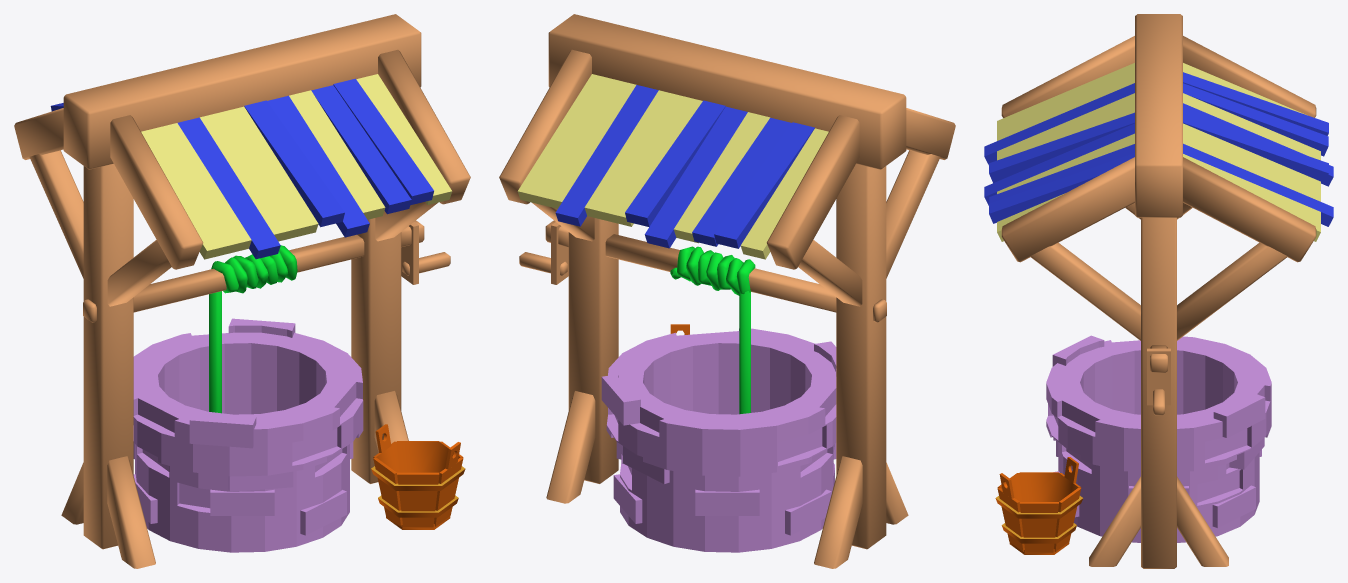
The model's file is brunn.fbx.
3 views of the same model, side by side, from view 1: azimuth 30°, elevation 25°; view 2: azimuth 150°, elevation 25°; view 3: azimuth 270°, elevation 25° (orthographic). The views are drawn at different scales.
Parts seen in each view (by area): view 1: column_low, well_low, roof2_low, roof1_low, well_stone_low, backet_low, robe_low; view 2: column_low, well_low, roof2_low, roof1_low, well_stone_low, robe_low; view 3: column_low, well_low, roof1_low, roof2_low, backet_low, well_stone_low.
Part boxes in pixels (x1,y1,x2,y2): column_low: [14, 14, 470, 568]; well_low: [133, 332, 363, 552]; roof2_low: [141, 74, 452, 259]; roof1_low: [50, 78, 433, 259]; well_stone_low: [133, 318, 353, 535]; backet_low: [371, 424, 465, 529]; robe_low: [209, 245, 297, 413]; column_low: [499, 14, 955, 568]; well_low: [606, 328, 836, 552]; roof2_low: [517, 74, 828, 259]; roof1_low: [555, 85, 814, 248]; well_stone_low: [601, 341, 836, 535]; robe_low: [670, 246, 755, 414]; column_low: [1001, 14, 1316, 568]; well_low: [1046, 336, 1271, 542]; roof1_low: [984, 72, 1333, 226]; roof2_low: [997, 63, 1320, 241]; backet_low: [995, 457, 1083, 554]; well_stone_low: [1052, 335, 1265, 527].
Bounding box in the file's own units: 335 × 385 × 292.
